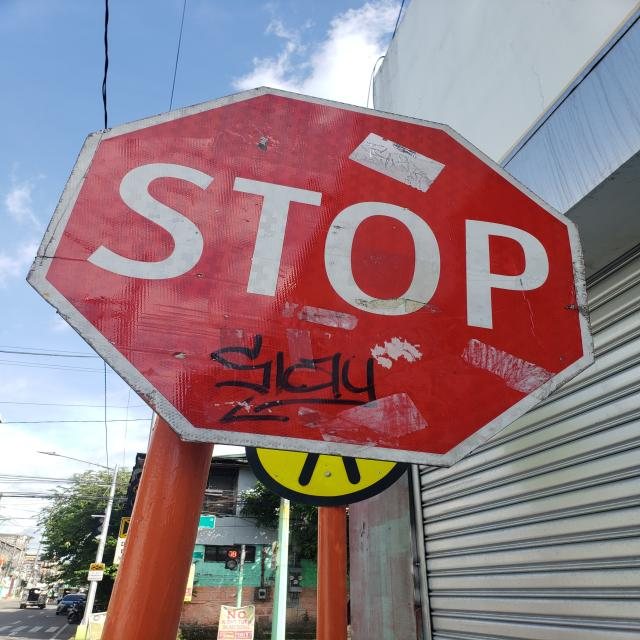stop-sign: (25, 83, 595, 469)
